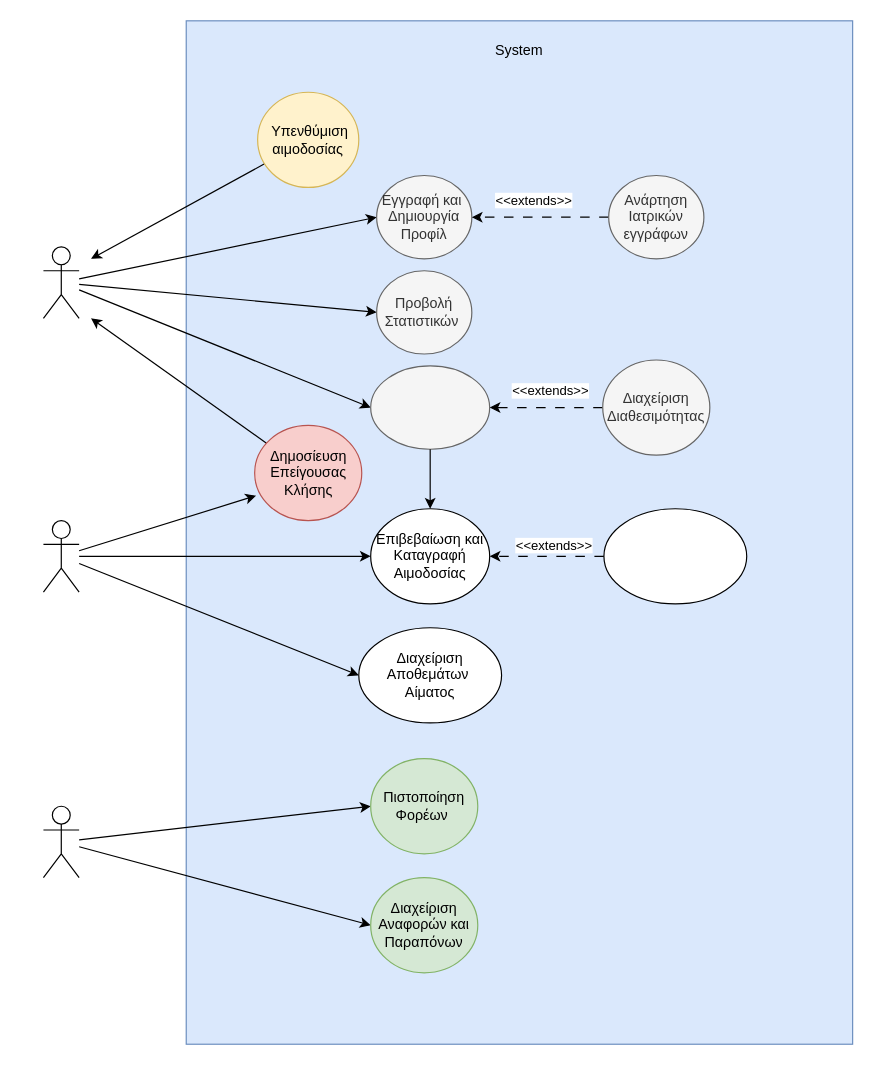
Some shapes in this 873 by 1065 pixel diagram are drawn without their labels. The shapes that lost their labels are listed below. From the top down, each one's centre as x and y in pixels, then its label:
[60,282]: Εθελοντής Αιμοδότης
[429,407]: Αναζήτηση και Προγραμματισμός Ραντεβού
[60,555]: Νοσοκομείο
[675,556]: Έκδοση Βεβαίωσης Αιμοδοσίας
[60,841]: Διαχειριστής Συστήματος
